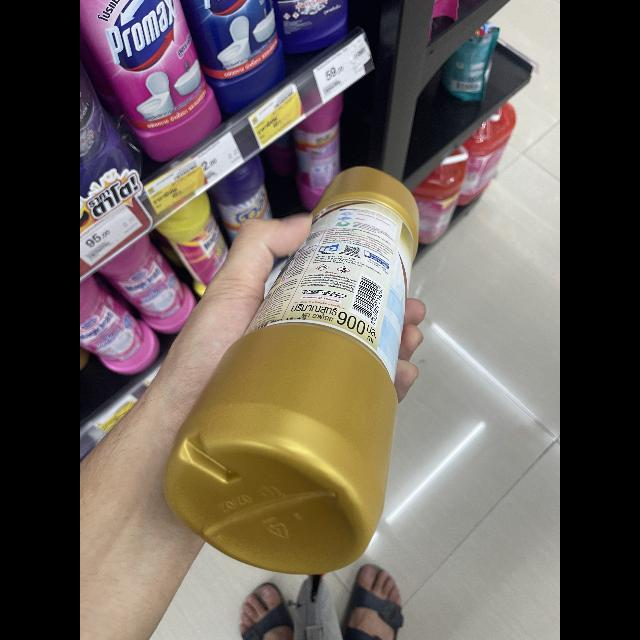chemical_plastic_bottle: (152, 156, 434, 586)
